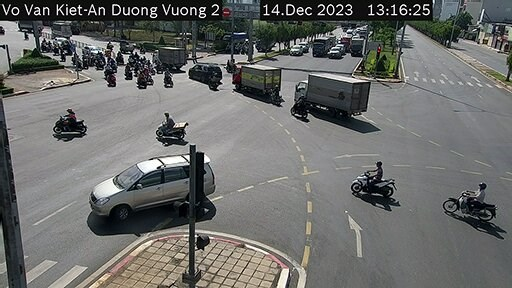car: (88, 153, 225, 217), (189, 61, 221, 87), (290, 43, 303, 55), (330, 47, 342, 57)
motorbike: (450, 181, 500, 222), (50, 102, 90, 137), (353, 162, 392, 197), (153, 112, 188, 140), (290, 92, 309, 120), (164, 67, 177, 87), (106, 73, 119, 85)
truck: (303, 70, 373, 117), (238, 60, 283, 95), (149, 50, 187, 69), (313, 36, 328, 58), (352, 39, 365, 56)
